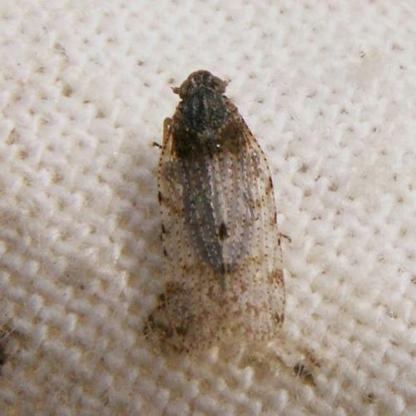brown-planthopper: (156, 64, 285, 342)
